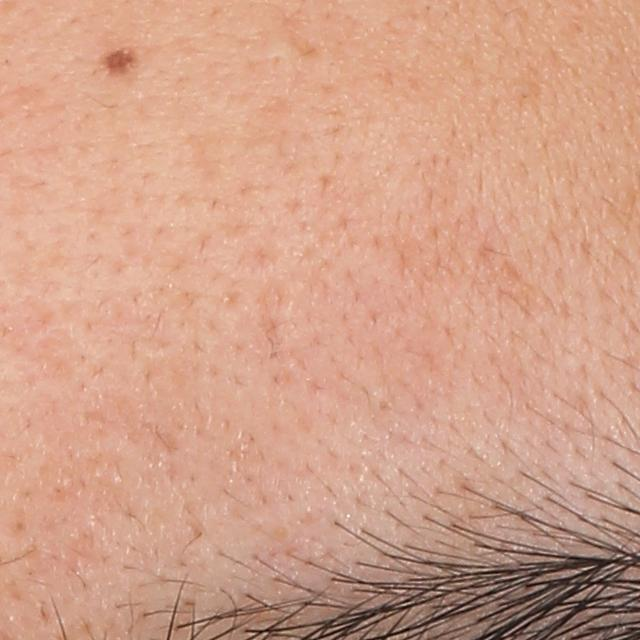atrophic_scar: (252, 275, 289, 372)
nevus: (97, 38, 143, 80)
